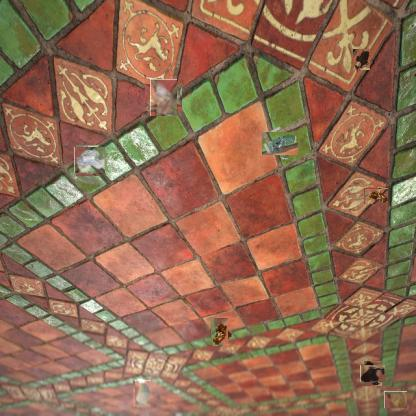dirty: (148, 81, 180, 114), (265, 128, 295, 158), (75, 146, 104, 175), (207, 321, 231, 343), (134, 380, 152, 407), (385, 390, 406, 410), (364, 188, 388, 204)
liquid: (362, 363, 384, 384), (352, 48, 370, 70)
